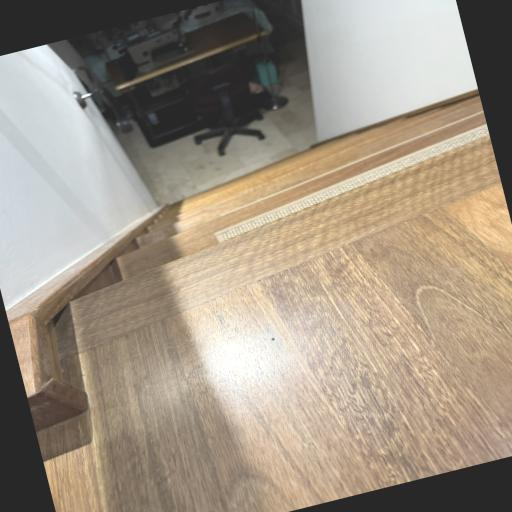stairs: (10, 92, 501, 388)
